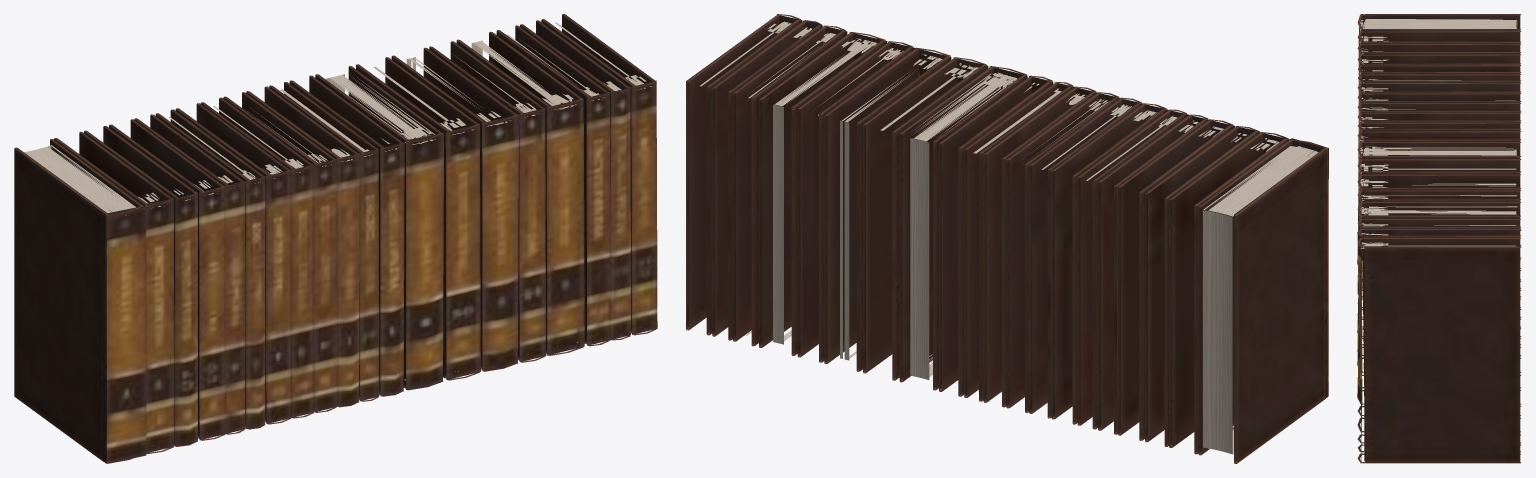
Rendered from ph_book_encyclopedia_set_01.glb.
3 views of the same model, side by side, from view 1: azimuth 30°, elevation 25°; view 2: azimuth 150°, elevation 25°; view 3: azimuth 270°, elevation 25° (orthographic). The views are drawn at different scales.
Parts seen in each view (by area): view 1: book_encyclopedia_set_01_book01; view 2: book_encyclopedia_set_01_book01; view 3: book_encyclopedia_set_01_book01.
Part boxes in pixels (left/top/right/bottom): book_encyclopedia_set_01_book01: left=14, top=14, right=657, bottom=463; book_encyclopedia_set_01_book01: left=686, top=14, right=1328, bottom=463; book_encyclopedia_set_01_book01: left=1357, top=14, right=1521, bottom=463.
Bounding box in the file's own units: 0.5525 × 0.2374 × 0.1637.
Materials: 2 (2 with a texture image).
